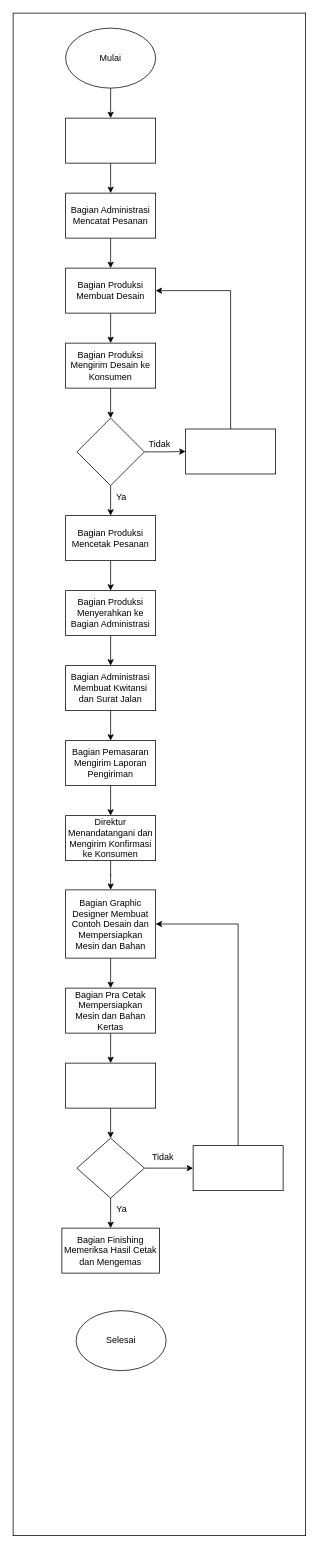
Image size: 319x1549. Some labels were removed from this diagram. The shapes that lost their labels are listed below. From the top down, each one's box as (x1, y1, x2, y2) in pixels, then its label:
(65, 117, 156, 163): Konsumen Membuat Purchase Order dan Mengirim Data
(76, 417, 144, 486): Konsumen Setuju?
(185, 428, 276, 474): Bagian Produksi Membuat Ulang Desain
(65, 1062, 156, 1108): Bagian Cetak Memproses Kertas dan Mencetak Pesanan
(76, 1137, 144, 1198): Hasil Cetak Sesuai?
(192, 1145, 283, 1191): Kembali ke Bagian Graphic Designer untuk Perbaikan
